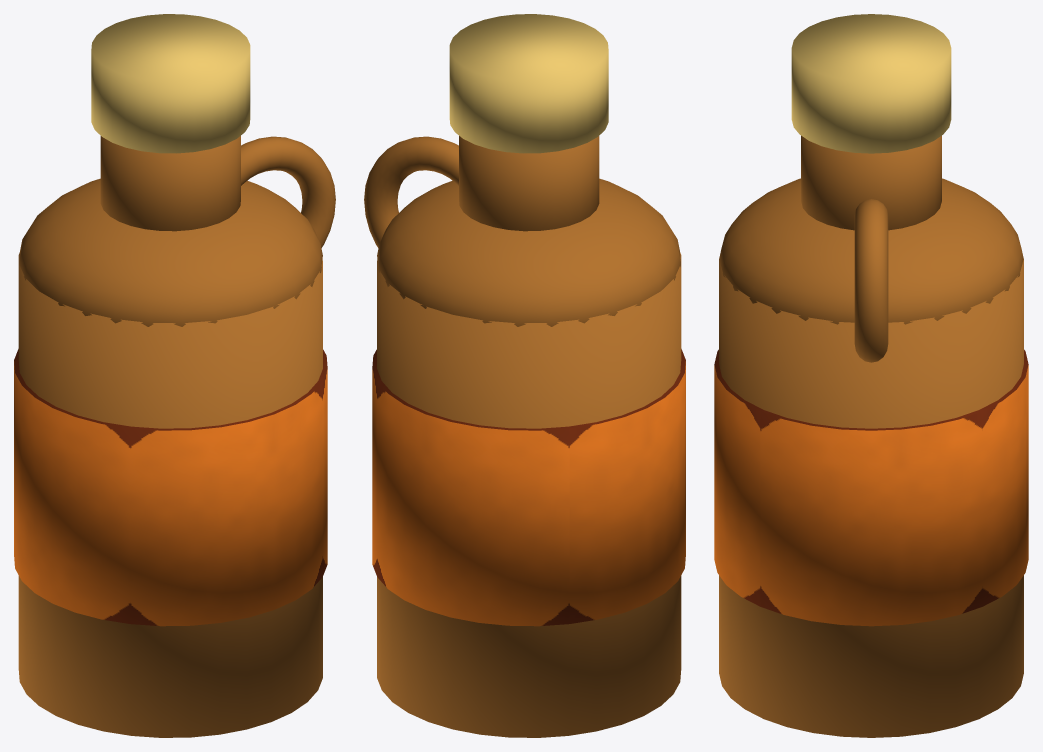
File: syrup_bottle.glb
3 renders of one model, left to right at view 1: azimuth 30°, elevation 25°; view 2: azimuth 150°, elevation 25°; view 3: azimuth 270°, elevation 25°, orthographic.
Parts seen in each view (by area): view 1: Cylinder, Cylinder.003, Sphere, Cylinder.002, Cylinder.001, Torus; view 2: Cylinder, Cylinder.003, Sphere, Cylinder.002, Cylinder.001, Torus; view 3: Cylinder, Cylinder.003, Sphere, Cylinder.002, Cylinder.001, Torus.
Boxes of the visible parts, x1,y1,x2,y2 form: Cylinder: (18,252,322,737); Cylinder.003: (14,349,327,626); Sphere: (19,178,322,326); Cylinder.002: (91,14,250,153); Cylinder.001: (100,136,240,231); Torus: (241,136,335,247); Cylinder: (377,252,681,737); Cylinder.003: (372,349,685,626); Sphere: (377,178,680,326); Cylinder.002: (449,14,608,153); Cylinder.001: (459,136,599,231); Torus: (364,136,458,247); Cylinder: (719,257,1023,737); Cylinder.003: (714,349,1028,626); Sphere: (719,178,1023,324); Cylinder.002: (791,14,951,153); Cylinder.001: (801,135,941,230); Torus: (854,199,888,362).
Bounding box in the file's own units: 1.47 × 2.94 × 1.34.
Materials: 3 (1 with a texture image).
